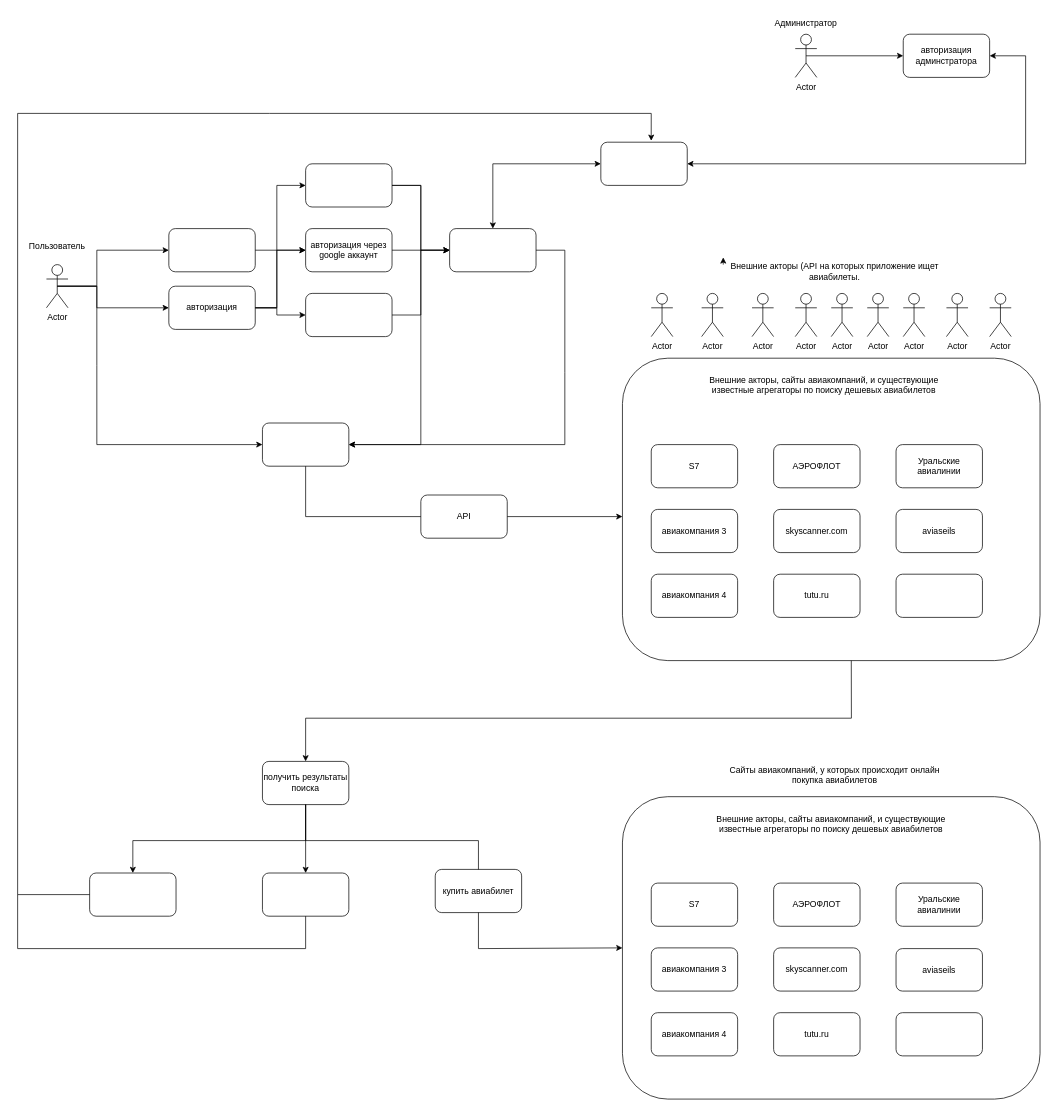
The diagram is 1053 pixels wide and 1112 high, and some of its shapes have lost their labels. Here are the shapes that lost their labels. From the top down, the centre of each, then its label:
the point at 643,163: база данных пользователей
the point at 348,185: авторизация через соцсети
the point at 211,250: выбор языка приложения
the point at 492,250: личный кабинет
the point at 348,315: авторизация через email
the point at 305,444: меню поиска
the point at 132,894: получить результаты на email
the point at 305,894: запись результатов поиска в файловое хранилище
